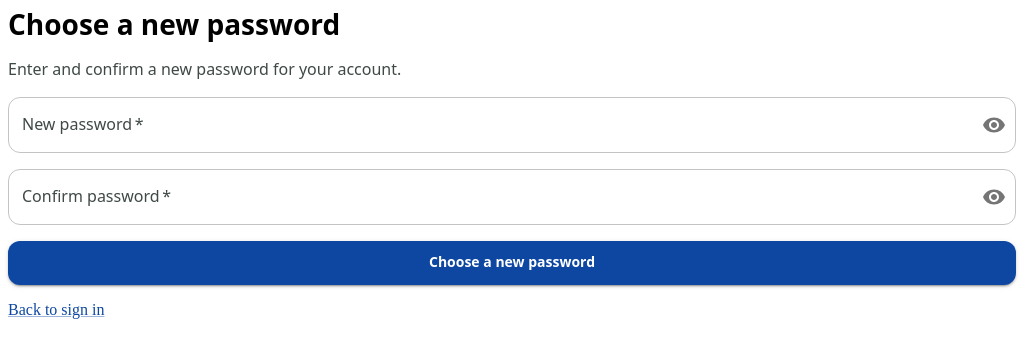
it: authentication forms › requires a matching confirmation on reset
expect the button "Choose a new password" is shown: met, box [8, 241, 1016, 285]
Type "ValidPass1!" into the password field labelled "New password *" at (487, 125), box [8, 97, 966, 153]
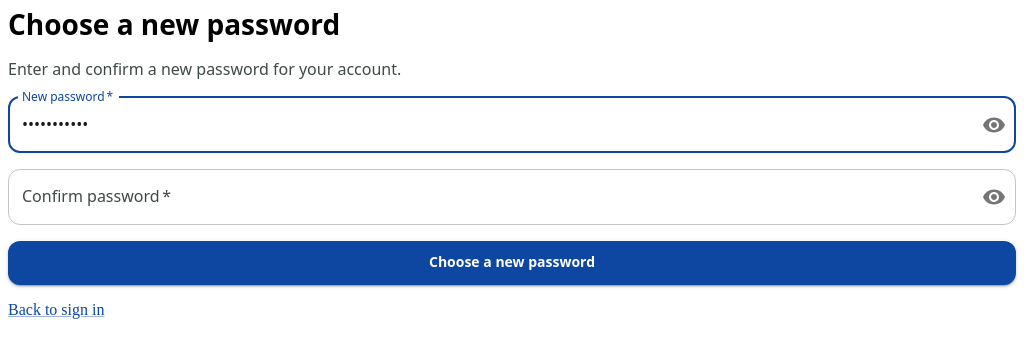
Type "OtherPass1!" into the password field labelled "Confirm password *" at (487, 197), box [8, 169, 966, 225]
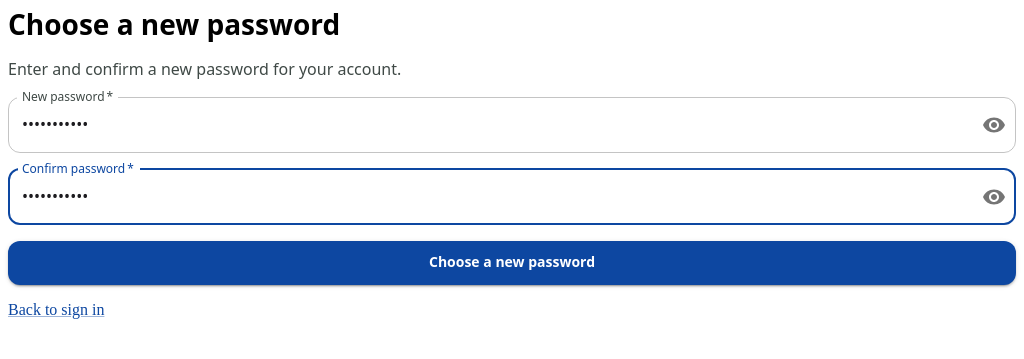
Click the button "Choose a new password" at (512, 263), box [8, 241, 1016, 285]
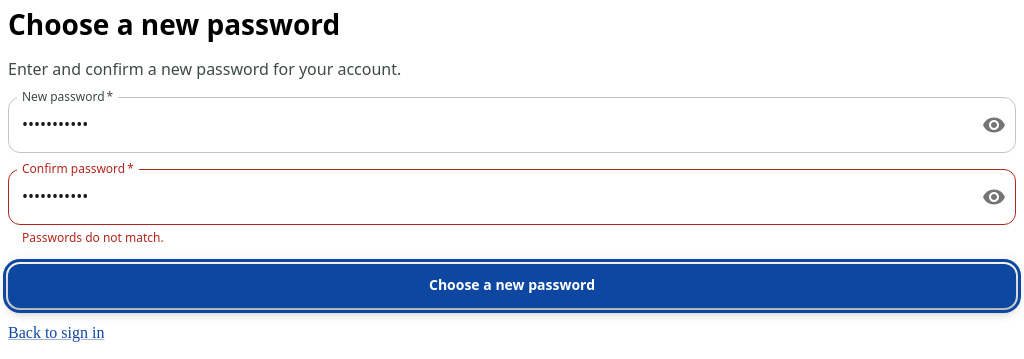
expect the text "Passwords do not match." is shown: met, box [22, 229, 164, 246]
